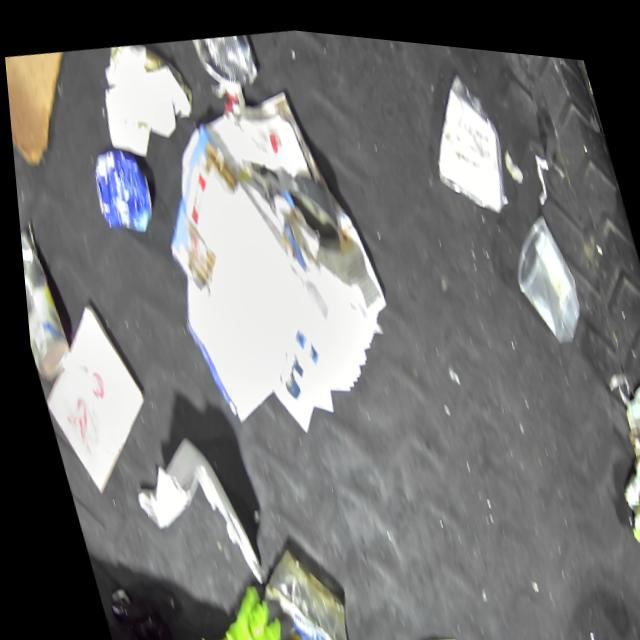can: (16, 224, 71, 387), (80, 138, 160, 239), (280, 162, 344, 253), (188, 24, 262, 94)
